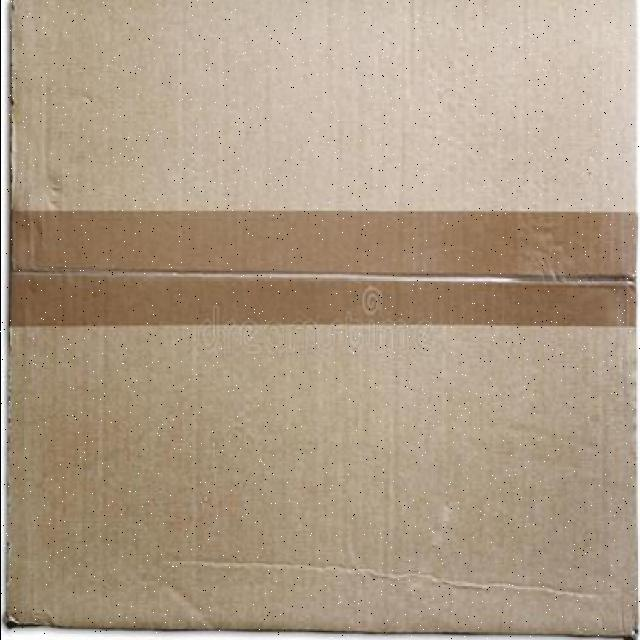normal: (11, 1, 640, 577)
